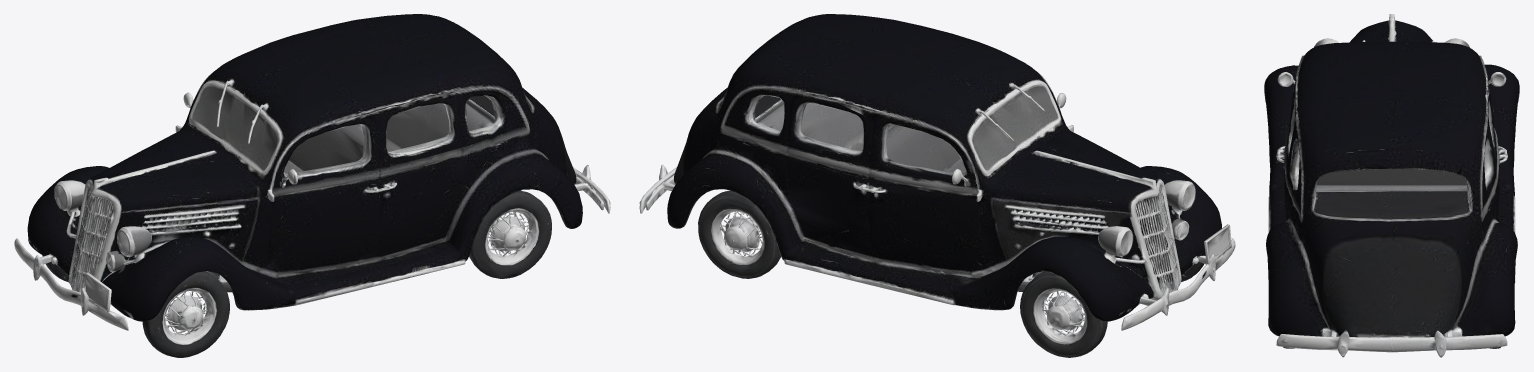
The model's file is outside-taxi.glb.
3 renders of one model, left to right at view 1: azimuth 30°, elevation 25°; view 2: azimuth 150°, elevation 25°; view 3: azimuth 270°, elevation 25°, orthographic.
Bounding box in the file's own units: 1.9 × 0.7578 × 0.8128.
Materials: 1 (1 with a texture image).
